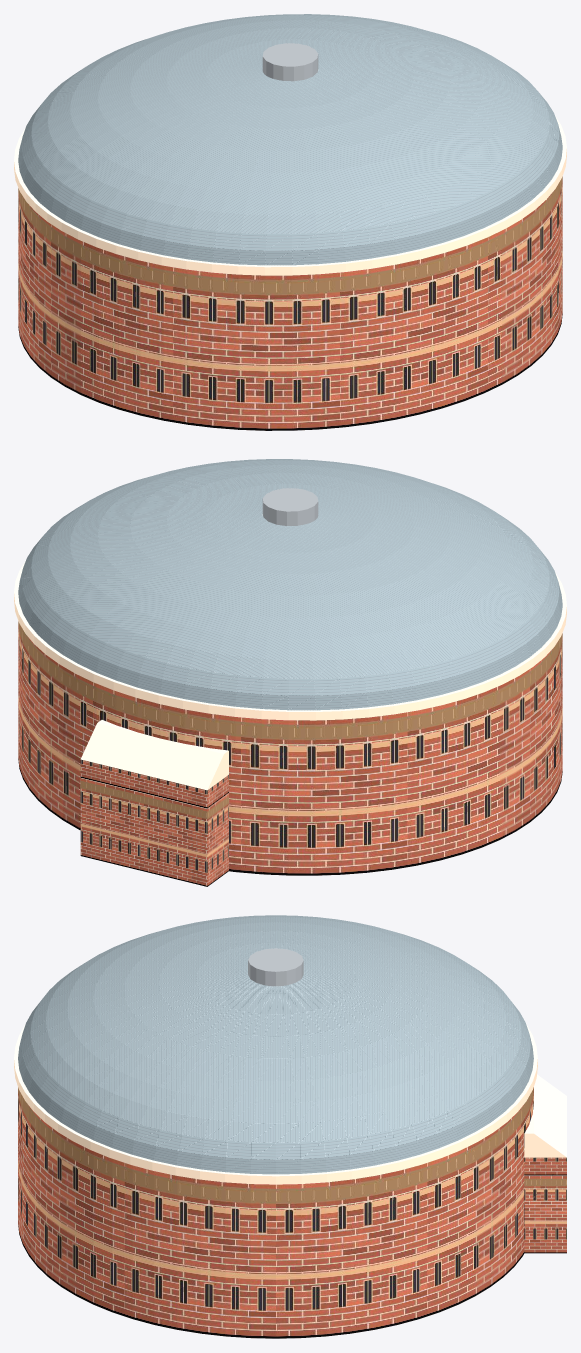
File: albert_hall.glb
3 renders of one model, top to bottom at view 1: azimuth 30°, elevation 25°; view 2: azimuth 150°, elevation 25°; view 3: azimuth 270°, elevation 25°, orthographic.
Visible parts, largest first — view 1: Dome, Drum, Cornice, Lantern; view 2: Dome, Drum, Cornice, PorchPediment, Lantern; view 3: Dome, Drum, Cornice, PorchPediment, Lantern.
Part boxes in pixels (bbox=[...]): Dome: bbox=[18, 14, 562, 265]; Drum: bbox=[18, 176, 562, 430]; Cornice: bbox=[14, 116, 566, 275]; Lantern: bbox=[262, 43, 318, 81]; Dome: bbox=[18, 459, 562, 710]; Drum: bbox=[18, 621, 562, 886]; Cornice: bbox=[14, 514, 566, 720]; PorchPediment: bbox=[80, 720, 228, 790]; Lantern: bbox=[262, 488, 318, 525]; Dome: bbox=[18, 915, 533, 1174]; Drum: bbox=[18, 1087, 566, 1338]; Cornice: bbox=[14, 1024, 537, 1184]; PorchPediment: bbox=[524, 1074, 566, 1157]; Lantern: bbox=[248, 948, 303, 986].
Size of the model in its own units: 84.28 by 43.8 by 83.6.
5 materials, 2 textured.
